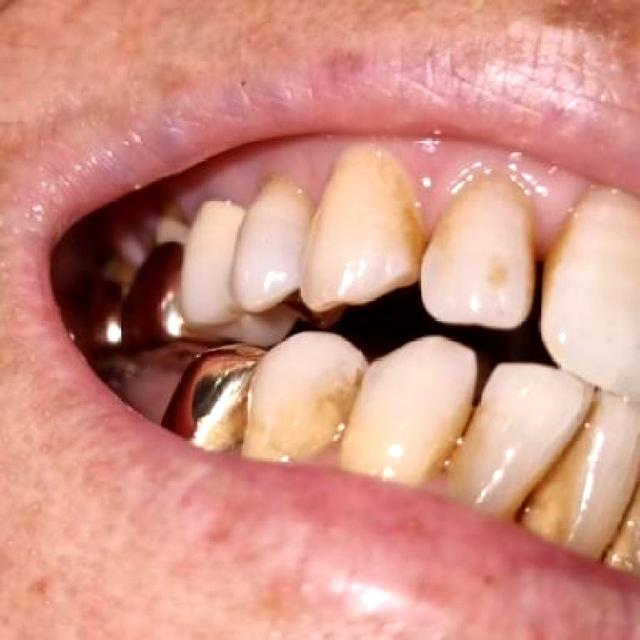Plaque: (69, 178, 207, 276), (520, 472, 558, 542)
